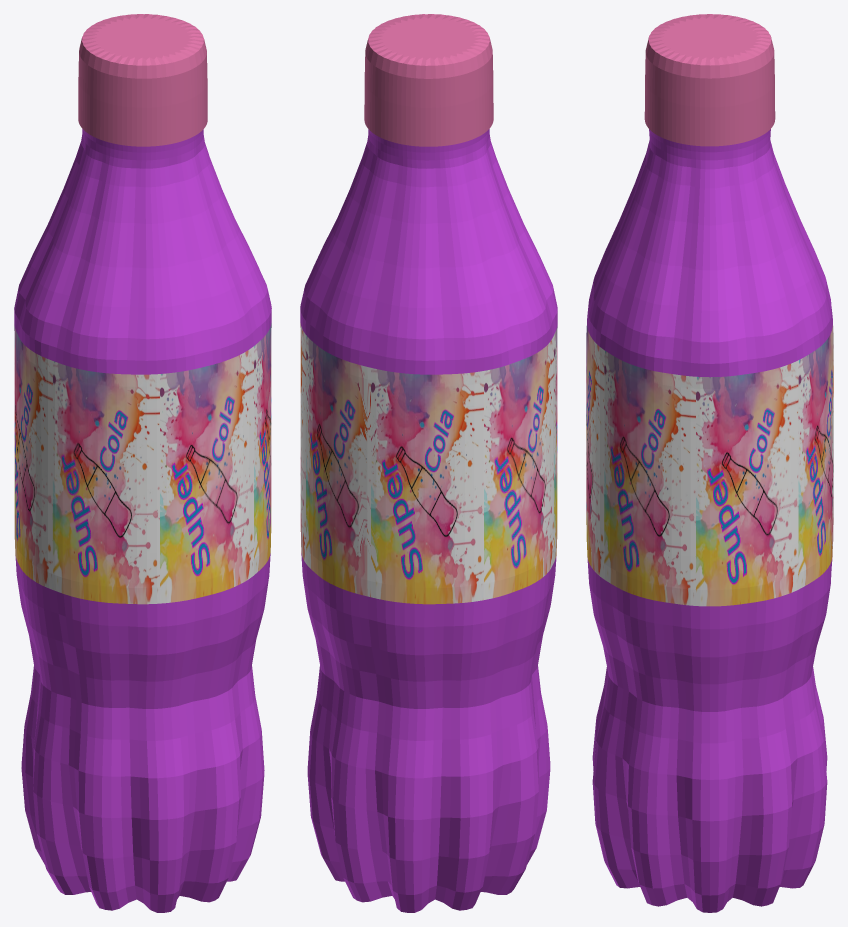
The model's file is bottleopen.glb.
The picture shows the model from 3 angles, left to right: view 1: azimuth 30°, elevation 25°; view 2: azimuth 150°, elevation 25°; view 3: azimuth 270°, elevation 25°; orthographic projection.
Parts seen in each view (by area): view 1: Bottle, Cap; view 2: Bottle, Cap; view 3: Bottle, Cap.
Boxes of the visible parts, box(x1,y1,x2,y2) form: Bottle: box(14, 129, 271, 912); Cap: box(78, 14, 207, 146); Bottle: box(300, 129, 557, 912); Cap: box(364, 14, 493, 146); Bottle: box(586, 129, 833, 912); Cap: box(644, 14, 775, 146).
Bounding box in the file's own units: 1.23 × 4.31 × 1.16.
3 materials, 1 textured.
